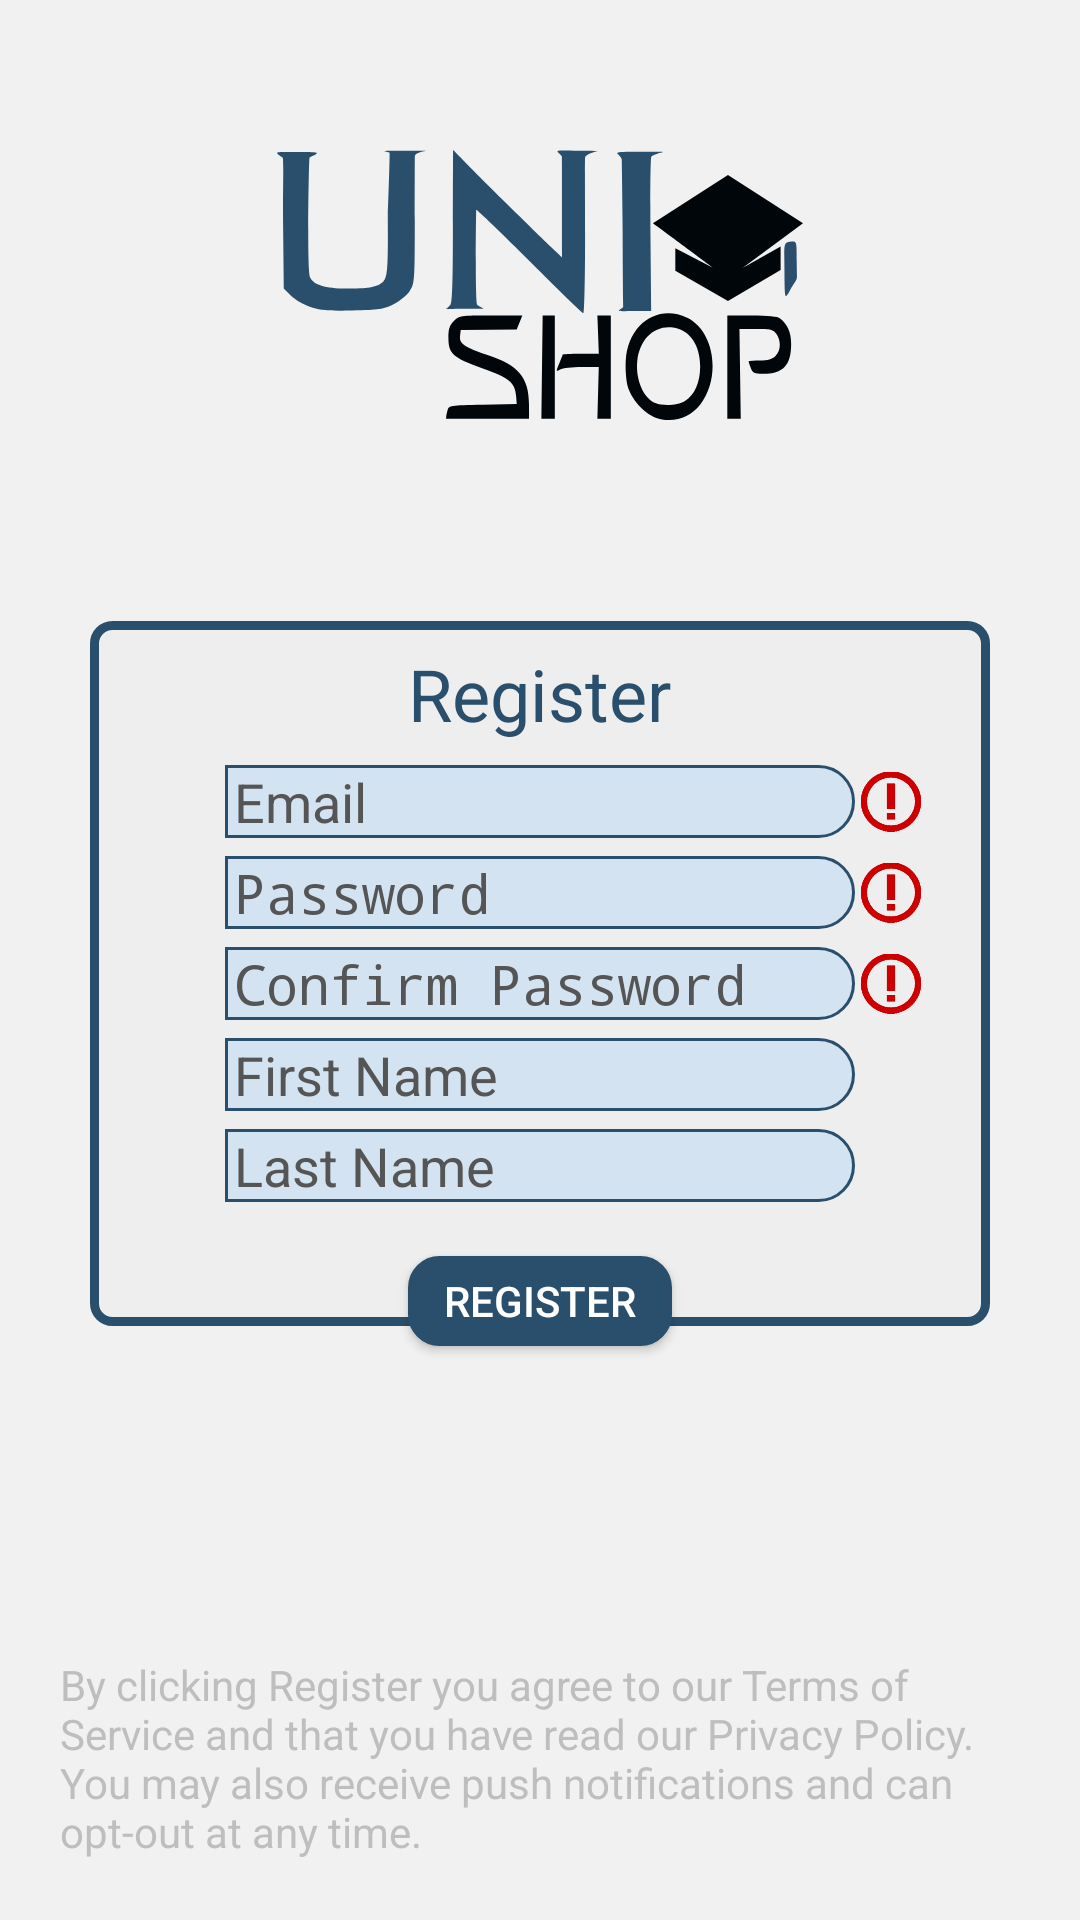

Screen size 1080x1920. Icon name, then its box in pixels as (x1, y1, x2, y2):
exclamation: (861, 772, 921, 832), (861, 863, 921, 923), (861, 954, 921, 1014)
